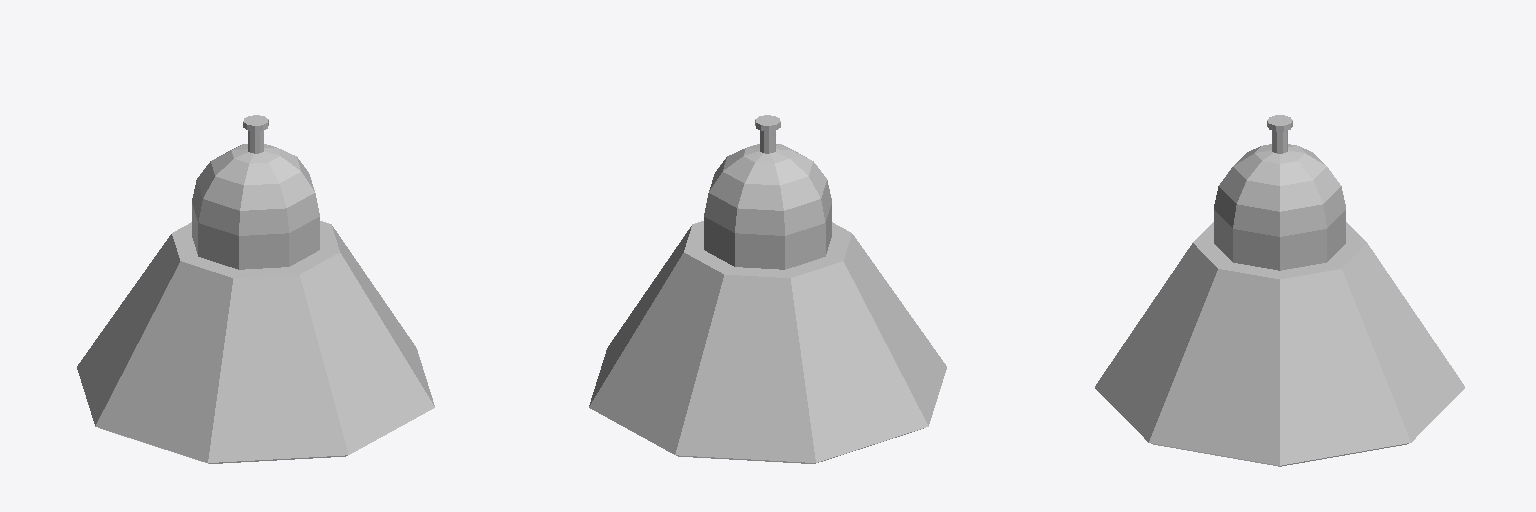
Rendered from Lampe.obj.
3 renders of one model, left to right at view 1: azimuth 30°, elevation 25°; view 2: azimuth 150°, elevation 25°; view 3: azimuth 270°, elevation 25°, orthographic.
Visible parts, largest first — view 1: atlasing.006; view 2: atlasing.006; view 3: atlasing.006.
Boxes of the visible parts, box(x1,y1,x2,y2) form: atlasing.006: box(77, 115, 434, 463); atlasing.006: box(589, 115, 946, 463); atlasing.006: box(1095, 115, 1464, 466).
Size of the model in its own units: 0.3138 by 0.2525 by 0.3138.